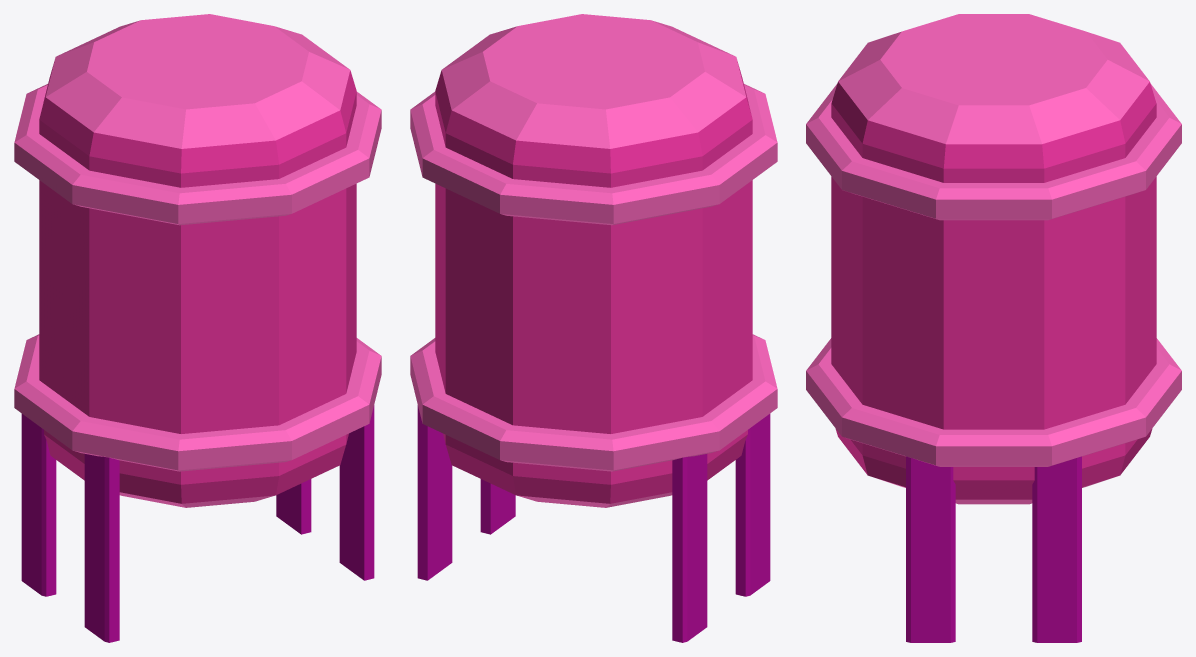
The model's file is Building_024.fbx.
3 views of the same model, side by side, from view 1: azimuth 30°, elevation 25°; view 2: azimuth 150°, elevation 25°; view 3: azimuth 270°, elevation 25° (orthographic).
Visible parts, largest first — view 1: Building_024; view 2: Building_024; view 3: Building_024.
Boxes of the visible parts, x1,y1,x2,y2 form: Building_024: (14, 14, 381, 642); Building_024: (410, 14, 777, 642); Building_024: (806, 14, 1181, 642).
Bounding box in the file's own units: 13.42 × 21.43 × 14.11.
